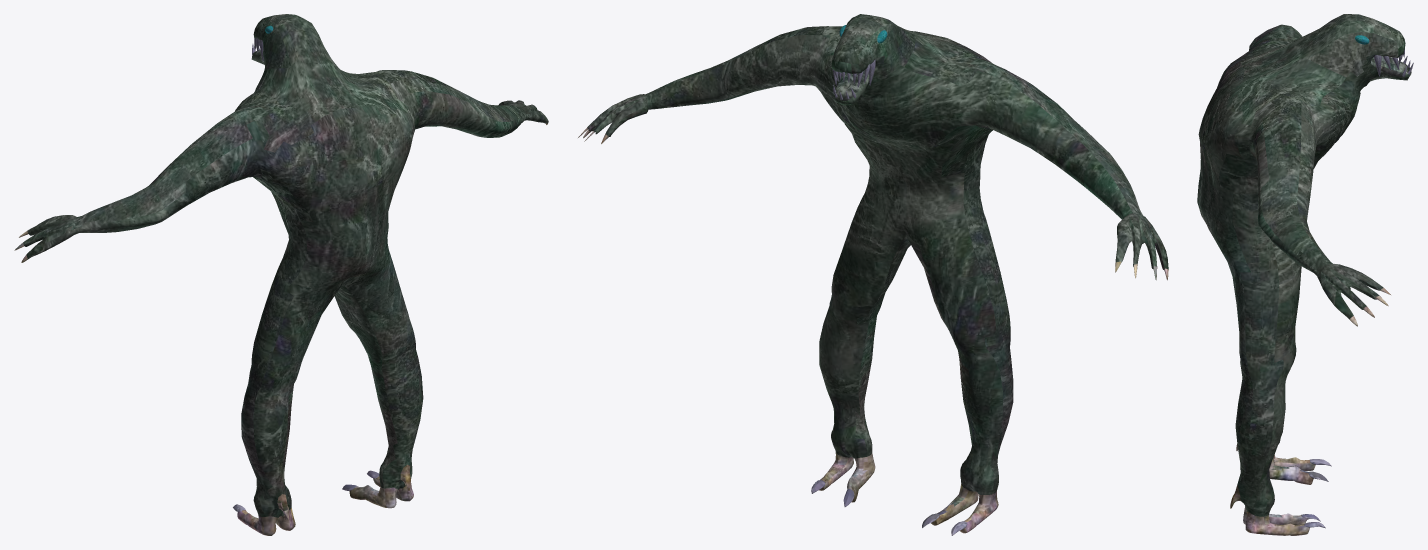
File: Aranar.0000.obj
The picture shows the model from 3 angles, left to right: view 1: azimuth 30°, elevation 25°; view 2: azimuth 150°, elevation 25°; view 3: azimuth 270°, elevation 25°; orthographic projection. The views are drawn at different scales.
Visible parts, largest first — view 1: polySurface28; view 2: polySurface28; view 3: polySurface28.
Boxes of the visible parts, box(x1,y1,x2,y2) form: polySurface28: box(14, 14, 548, 535); polySurface28: box(578, 14, 1168, 535); polySurface28: box(1197, 14, 1413, 535).
Bounding box in the file's own units: 2.74 × 2.32 × 0.9343.
4 materials, 4 textured.
